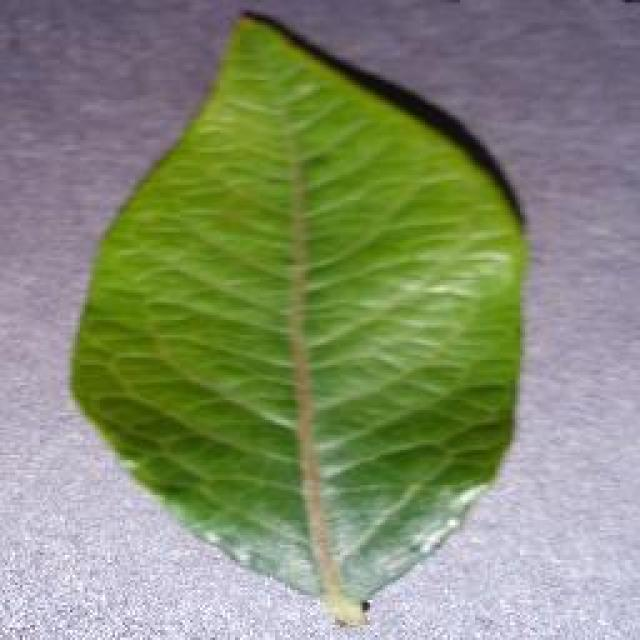Blu_healthy: (118, 101, 496, 520)
